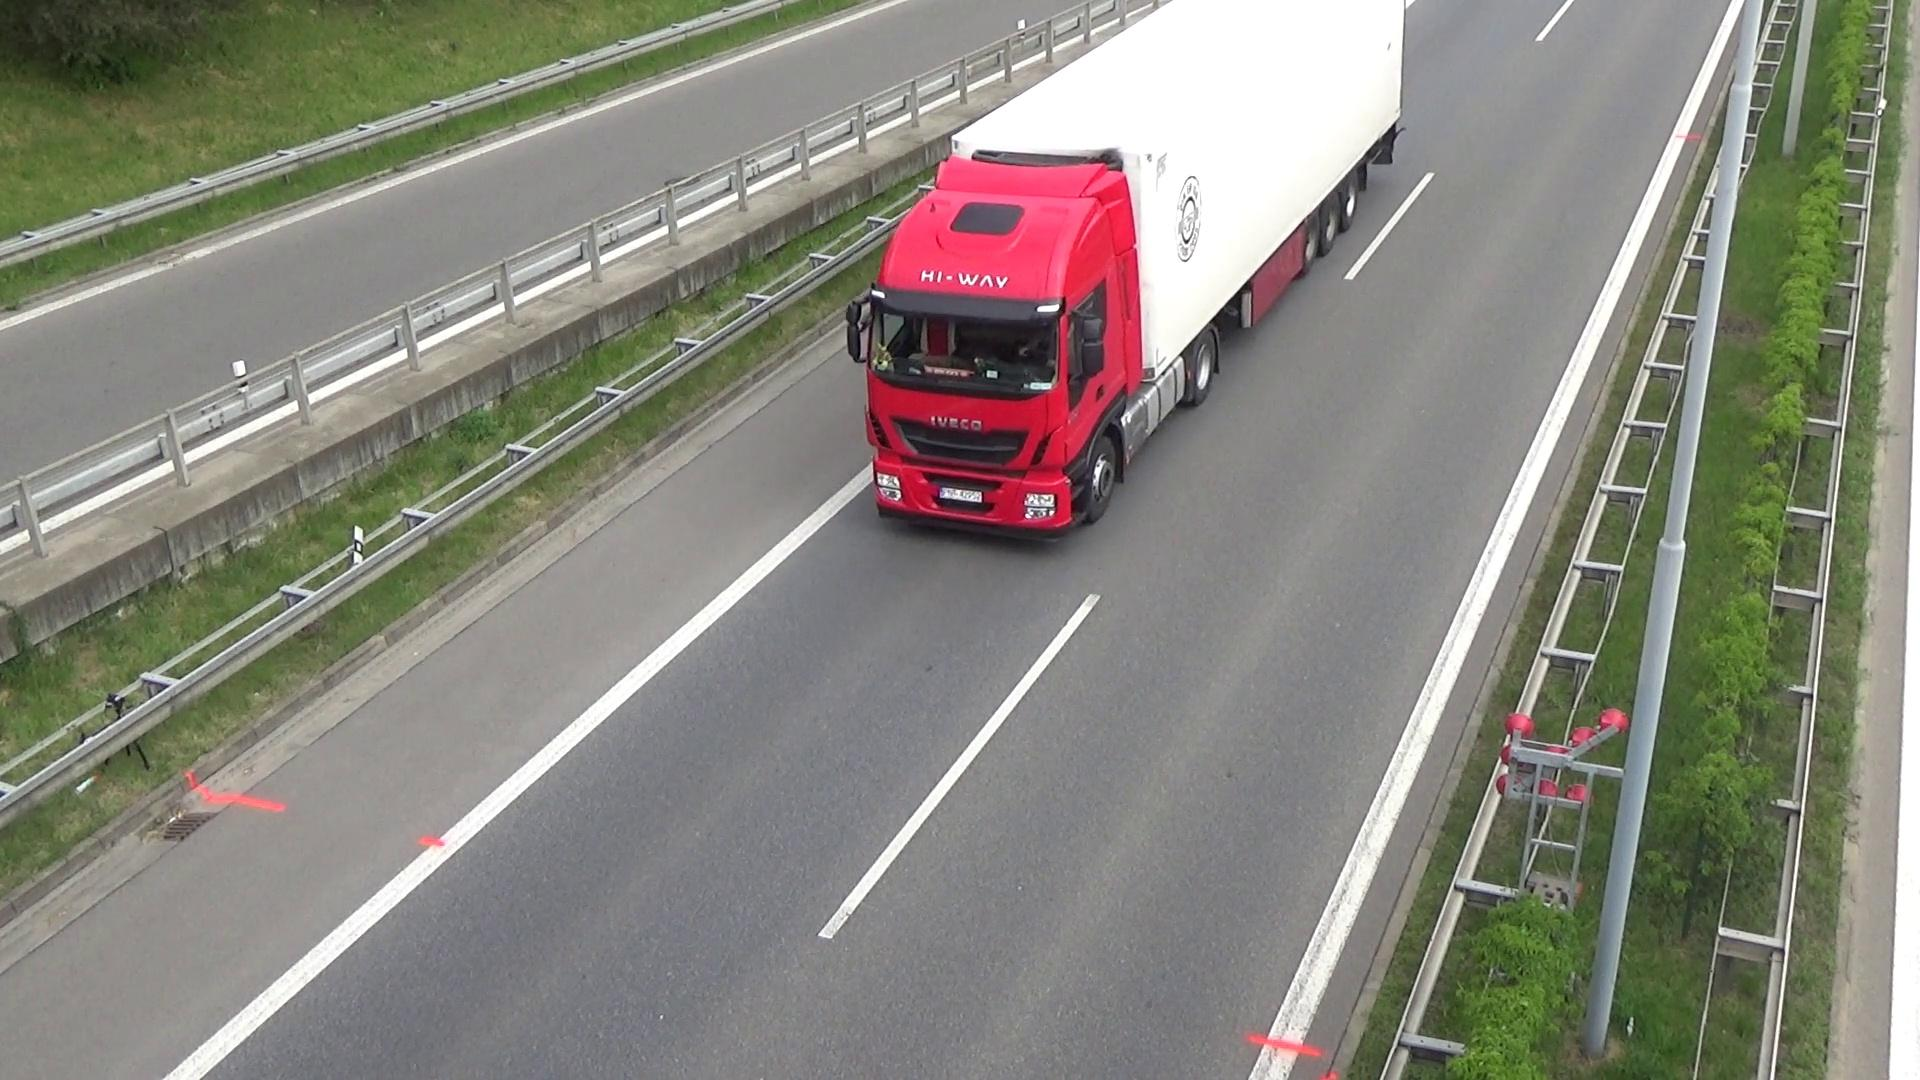Truck: (832, 0, 1462, 554)
